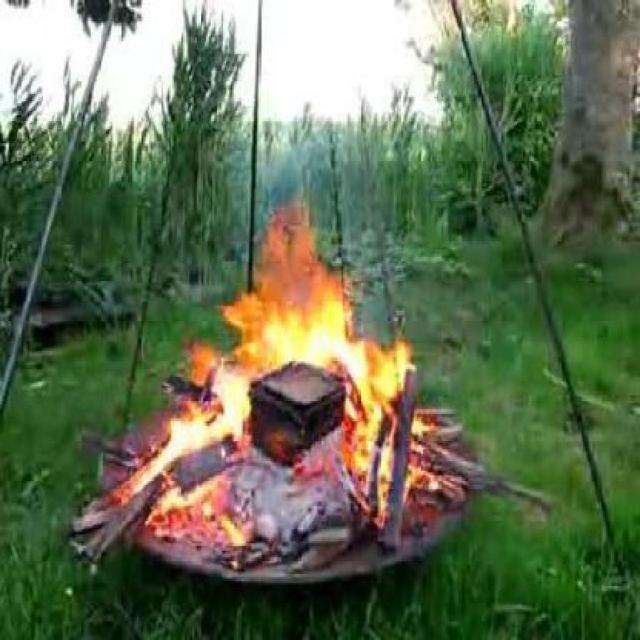Fire: (77, 165, 490, 564)
